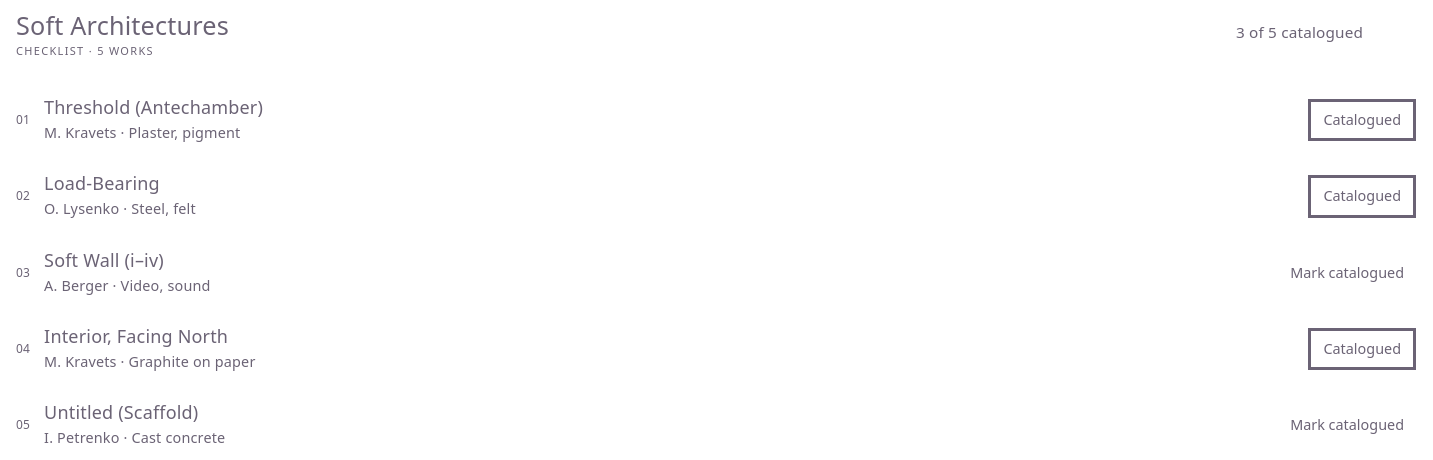
Test: audience page demos › checklist: marking a work updates the progress
expect the text "3 of 5 catalogued" is shown: met, box [1236, 22, 1363, 42]
Step 1. Click the button named "Soft Wall" → click(1347, 273), box [1278, 255, 1416, 291]
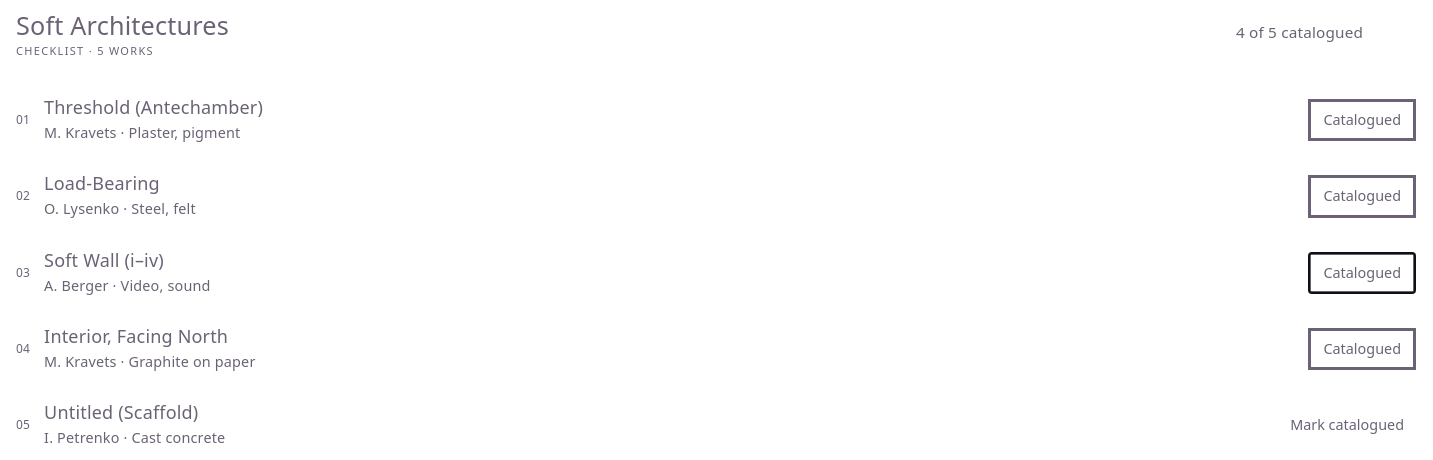
expect the text "4 of 5 catalogued" is shown: met, box [1236, 22, 1363, 42]
